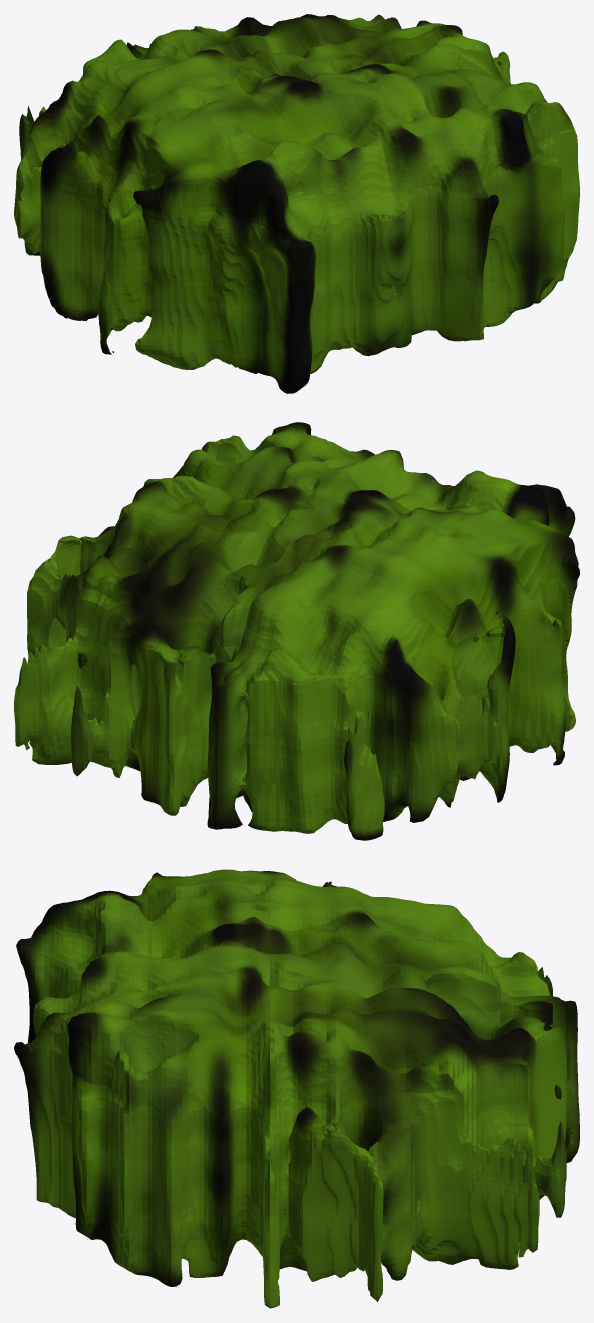
3 renders of one model, top to bottom at view 1: azimuth 30°, elevation 25°; view 2: azimuth 150°, elevation 25°; view 3: azimuth 270°, elevation 25°, orthographic. The views are drawn at different scales.
Parts seen in each view (by area): view 1: tmps2ixkfeq.ply; view 2: tmps2ixkfeq.ply; view 3: tmps2ixkfeq.ply.
Boxes of the visible parts, <box> form: tmps2ixkfeq.ply: <box>14,14,579,393</box>; tmps2ixkfeq.ply: <box>14,422,579,840</box>; tmps2ixkfeq.ply: <box>14,869,579,1308</box>.
Size of the model in its own units: 1.95 by 0.919 by 1.87.
